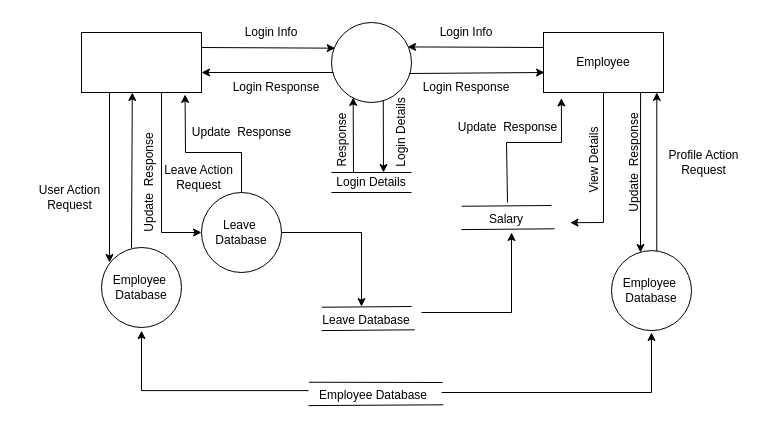
This 773x424 diagram has some shape labels left out. Each missing label, with the box of its shape:
Admin: (80, 32, 202, 92)
Login: (330, 22, 412, 102)
